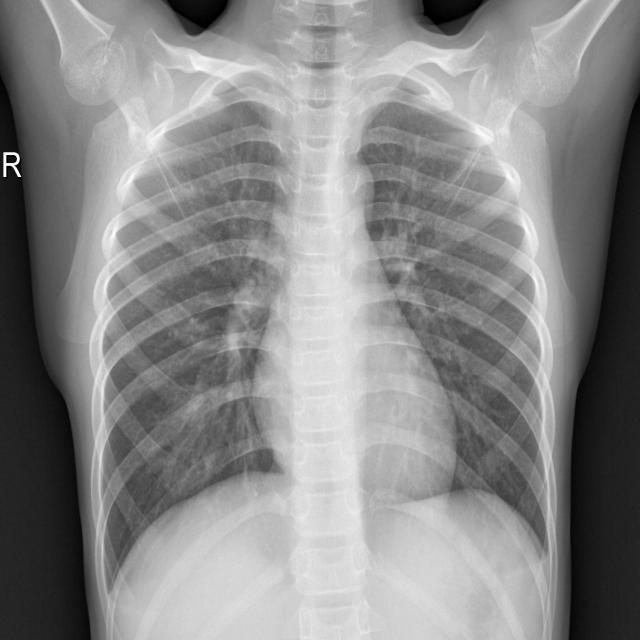no-pneumonia: (1, 1, 640, 639)
